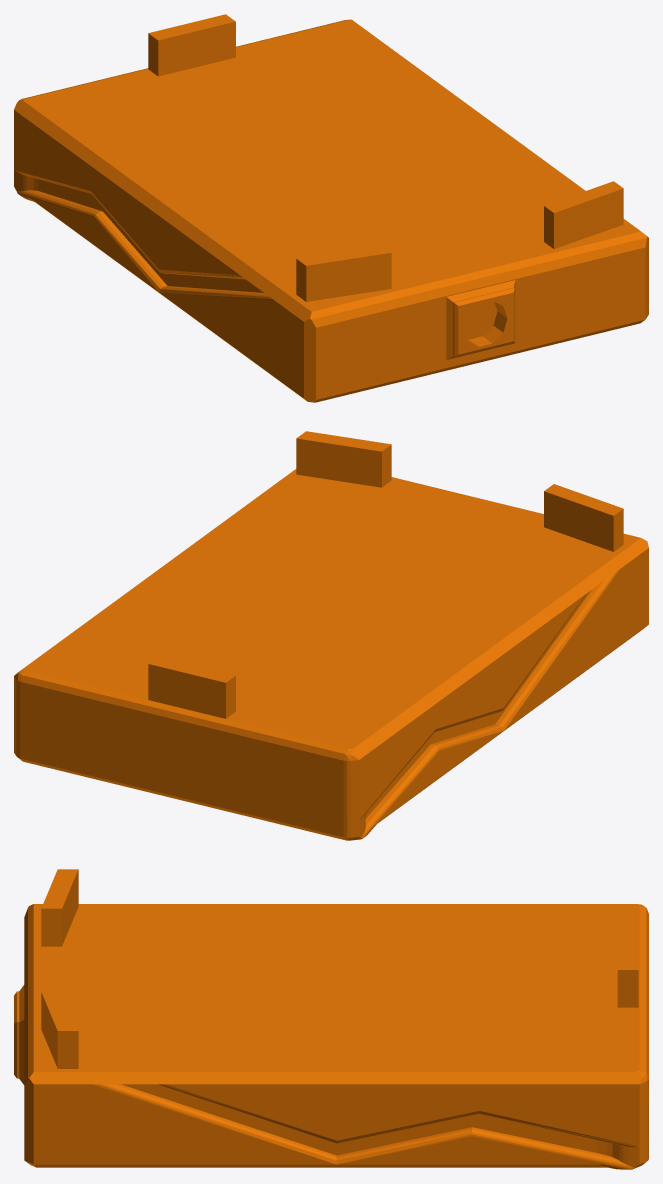
Rendered from Chassis.dae.
The picture shows the model from 3 angles, top to bottom: view 1: azimuth 30°, elevation 25°; view 2: azimuth 150°, elevation 25°; view 3: azimuth 270°, elevation 25°; orthographic projection. The views are drawn at different scales.
Parts seen in each view (by area): view 1: Chassis; view 2: Chassis; view 3: Chassis.
Part boxes in pixels (bbox=[...]): Chassis: bbox=[14, 14, 648, 402]; Chassis: bbox=[14, 431, 648, 840]; Chassis: bbox=[14, 869, 648, 1169].
Bounding box in the file's own units: 0.2 × 0.305 × 0.07.
